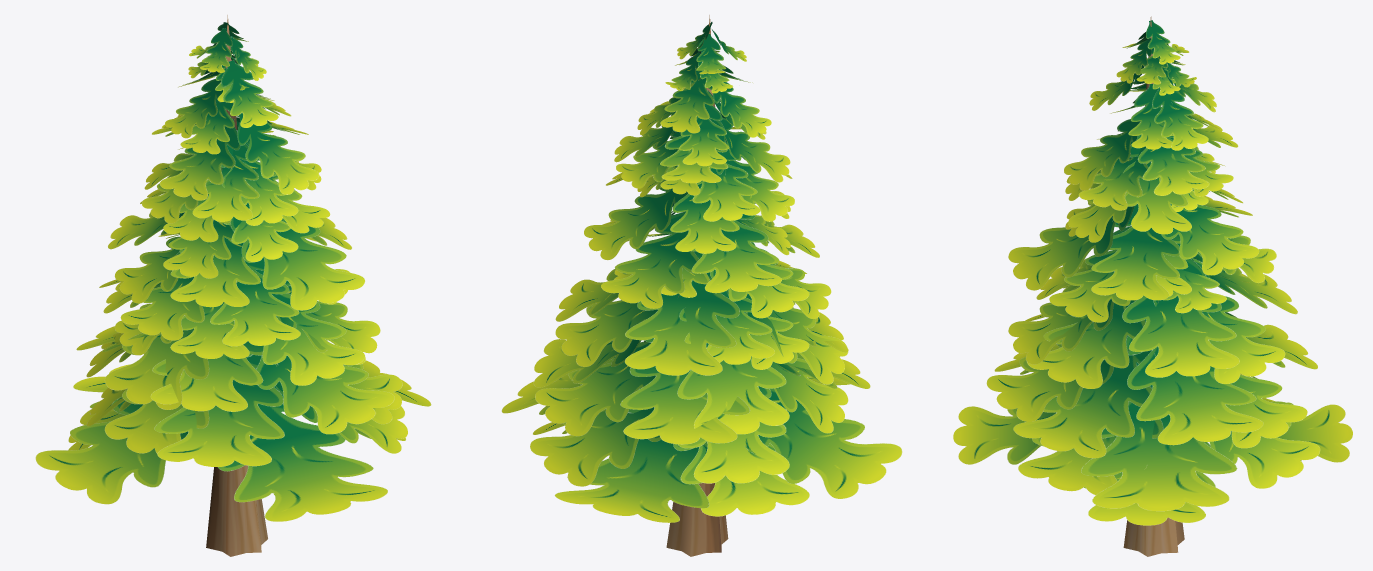
File: Tree_02.FBX
The picture shows the model from 3 angles, left to right: view 1: azimuth 30°, elevation 25°; view 2: azimuth 150°, elevation 25°; view 3: azimuth 270°, elevation 25°; orthographic projection.
Parts seen in each view (by area): view 1: Leaf, Trunk; view 2: Leaf, Trunk; view 3: Leaf, Trunk.
Part boxes in pixels (x1,y1,x2,y2): Leaf: (35,22,431,521); Trunk: (206,15,267,556); Leaf: (501,22,902,522); Trunk: (666,15,728,556); Leaf: (953,20,1352,525); Trunk: (1123,16,1184,556).
Size of the model in its own units: 228 by 321 by 226.
Materials: 1 (1 with a texture image).
